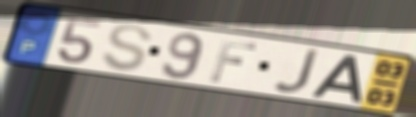5: (55, 15, 105, 65)
9: (159, 31, 207, 81)
A: (308, 53, 364, 105)
F: (206, 37, 260, 84)
J: (270, 48, 323, 96)
S: (98, 23, 154, 73)
